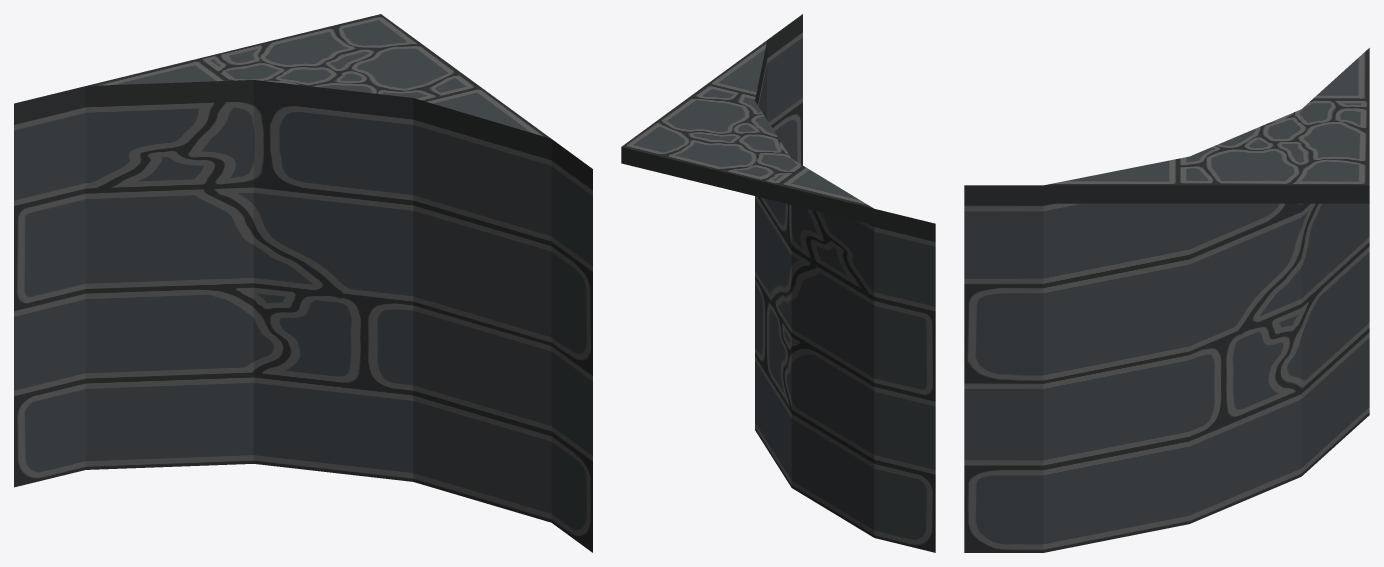
The model's file is Wall-SCURVE-NE_v1.1.fbx.
3 views of the same model, side by side, from view 1: azimuth 30°, elevation 25°; view 2: azimuth 150°, elevation 25°; view 3: azimuth 270°, elevation 25° (orthographic). The views are drawn at different scales.
Parts seen in each view (by area): view 1: Tile; view 2: Tile; view 3: Tile.
Part boxes in pixels (x1,y1,x2,y2): Tile: [14, 14, 592, 552]; Tile: [621, 14, 935, 552]; Tile: [964, 48, 1369, 552].
Bounding box in the file's own units: 100 × 100 × 100.
